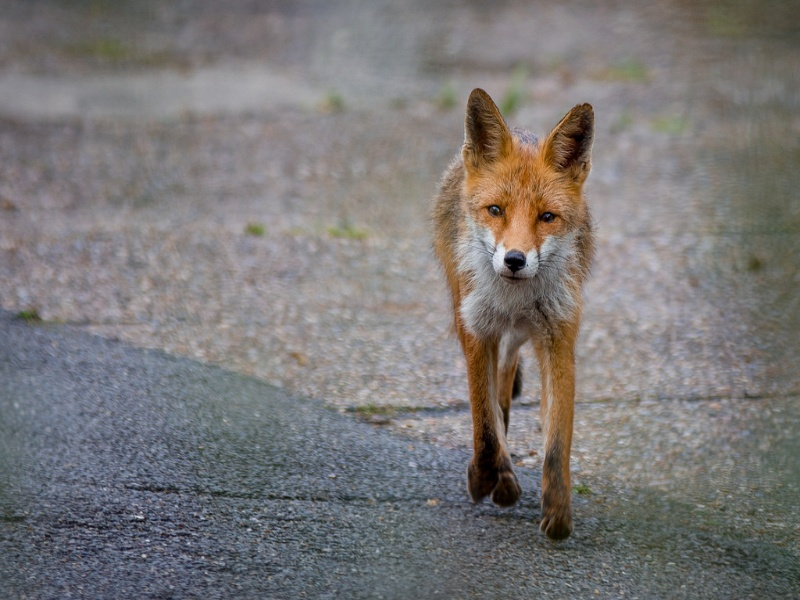fox: (418, 82, 602, 548)
